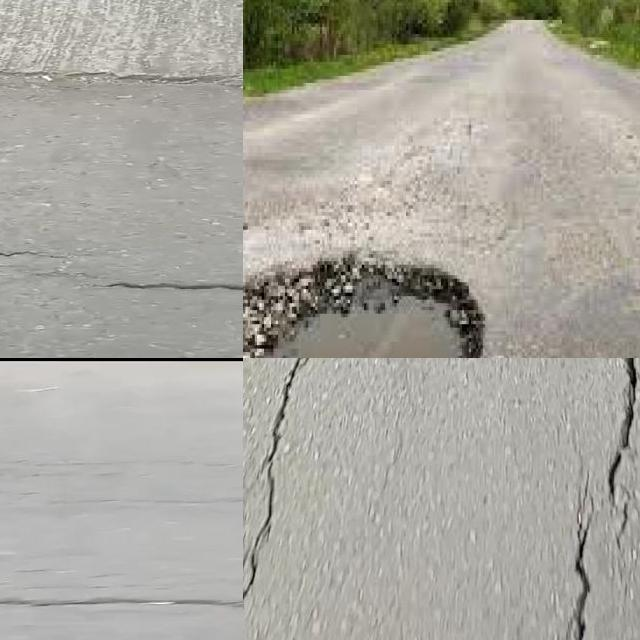Lubang: (243, 258, 490, 358)
Melintang: (0, 238, 243, 307), (0, 584, 243, 623)
Memanjang: (551, 358, 640, 640), (243, 358, 324, 640)
